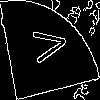V: (24, 25, 69, 66)
